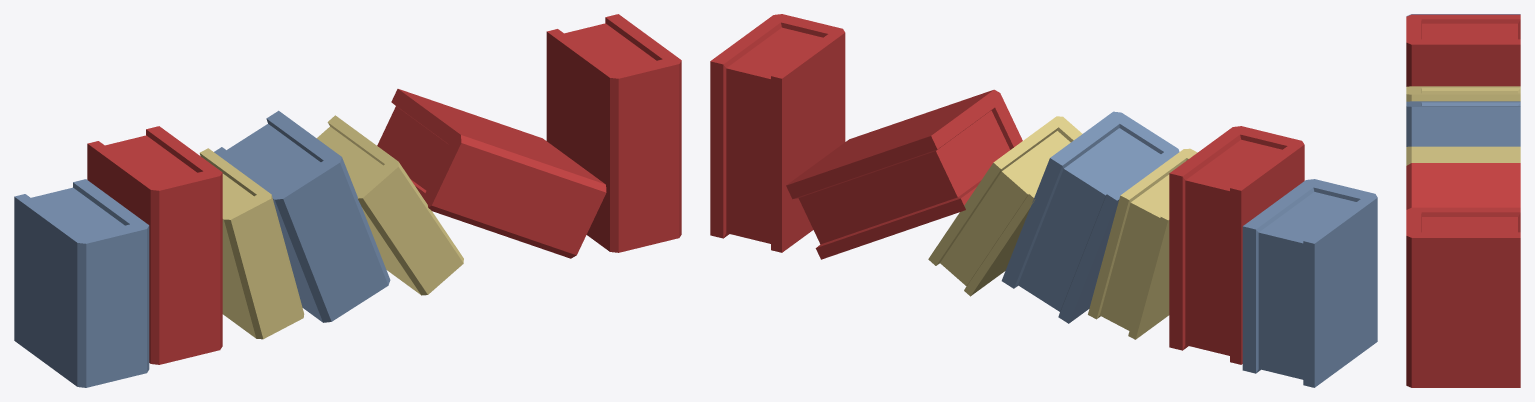
Rendered from bookstack7.fbx.
3 renders of one model, left to right at view 1: azimuth 30°, elevation 25°; view 2: azimuth 150°, elevation 25°; view 3: azimuth 270°, elevation 25°, orthographic. The views are drawn at different scales.
Parts seen in each view (by area): view 1: bookstack7; view 2: bookstack7; view 3: bookstack7.
Part boxes in pixels (x1=…): bookstack7: x1=14, y1=14, x2=681, y2=387; bookstack7: x1=710, y1=14, x2=1377, y2=387; bookstack7: x1=1406, y1=14, x2=1520, y2=387.
Bounding box in the file's own units: 85.01 × 24.09 × 16.19.
